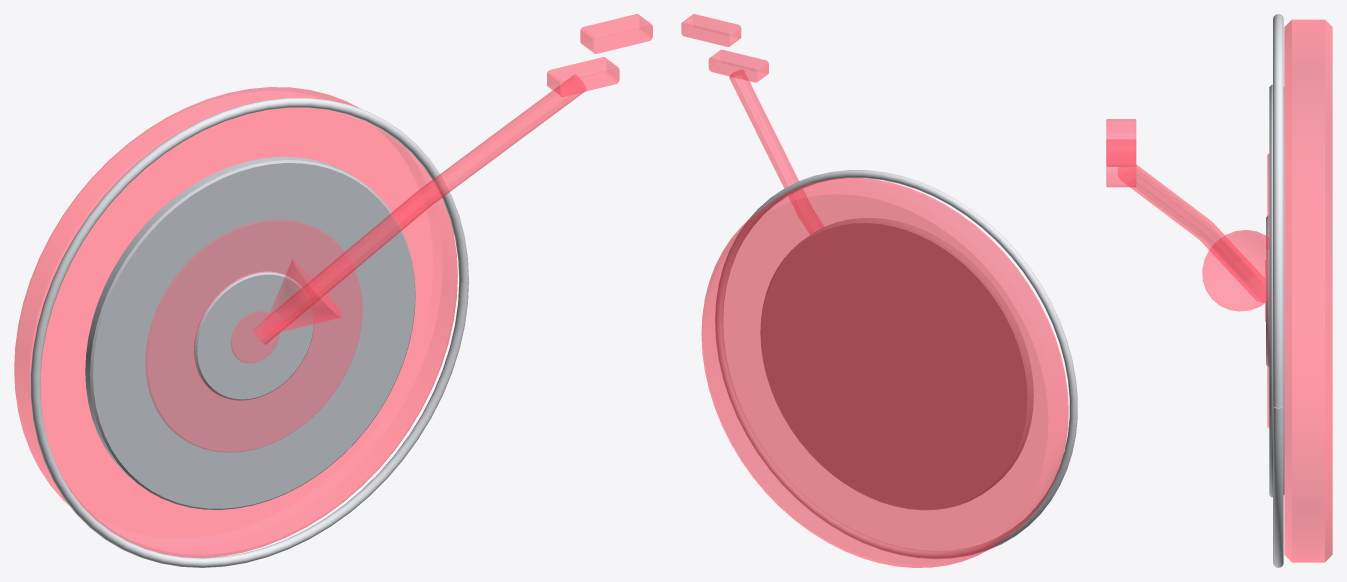
The model's file is 21-target.glb.
3 renders of one model, left to right at view 1: azimuth 30°, elevation 25°; view 2: azimuth 150°, elevation 25°; view 3: azimuth 270°, elevation 25°, orthographic. The views are drawn at different scales.
Parts seen in each view (by area): view 1: BC ruby optical glass, BC satin silver metal, BC polished silver metal; view 2: BC ruby optical glass, BC satin silver metal, BC polished silver metal; view 3: BC ruby optical glass, BC polished silver metal, BC satin silver metal.
Boxes of the visible parts, left/top/right/bottom form: BC ruby optical glass: left=14, top=14, right=652, bottom=558; BC satin silver metal: left=85, top=156, right=415, bottom=509; BC polished silver metal: left=30, top=98, right=468, bottom=567; BC ruby optical glass: left=681, top=14, right=1068, bottom=567; BC satin silver metal: left=760, top=218, right=1033, bottom=509; BC polished silver metal: left=715, top=170, right=1077, bottom=558; BC ruby optical glass: left=1106, top=19, right=1332, bottom=562; BC polished silver metal: left=1273, top=14, right=1283, bottom=567; BC satin silver metal: left=1266, top=84, right=1284, bottom=497.
Bounding box in the file's own units: 2.28 × 2.07 × 0.75.
